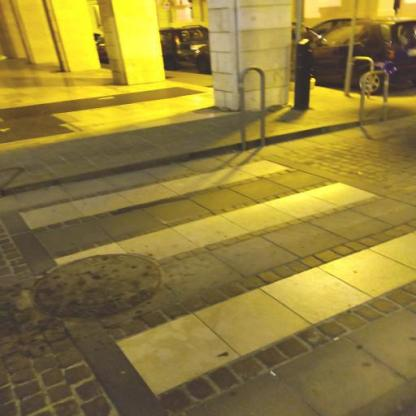crosswalk: (15, 156, 390, 292)
